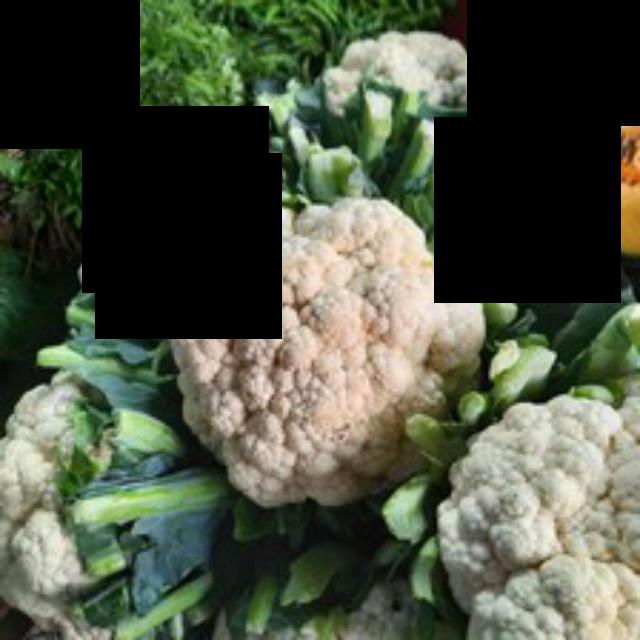cauliflower: (150, 185, 497, 522)
